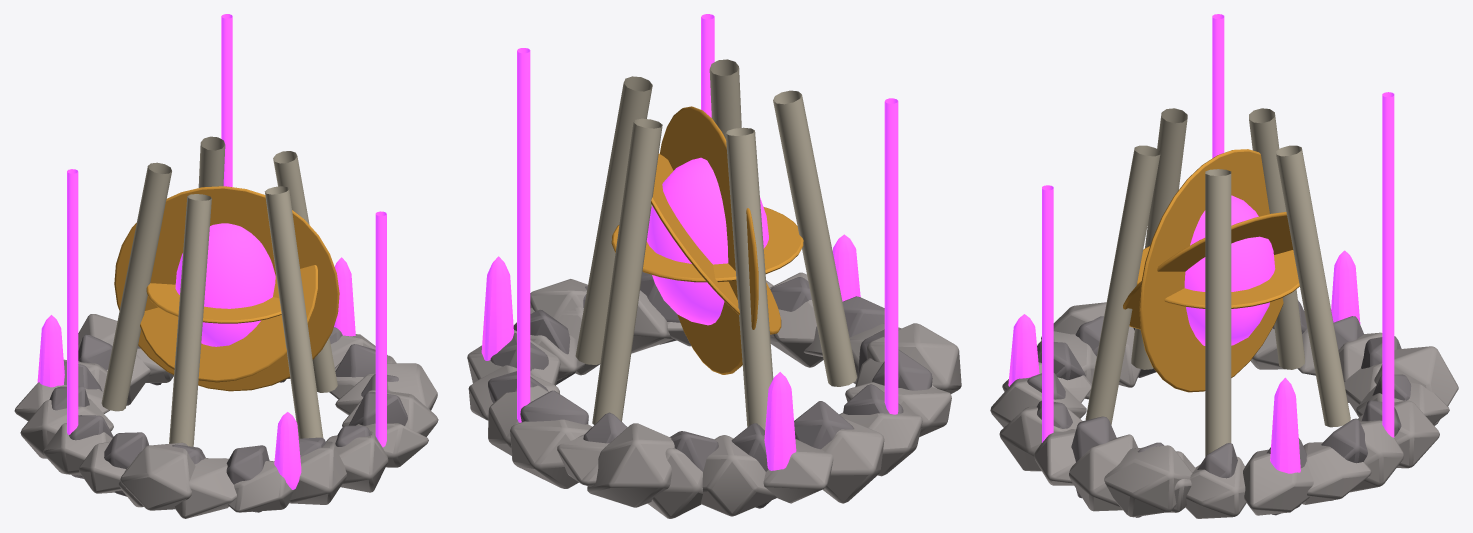
File: spell_hall.glb
3 renders of one model, left to right at view 1: azimuth 30°, elevation 25°; view 2: azimuth 150°, elevation 25°; view 3: azimuth 270°, elevation 25°, orthographic. The views are drawn at different scales.
Parts seen in each view (by area): view 1: RuneRing_2, Arch_1, Arch_2, Arch_3, SpellHeart, RuneRing_1, L5Foundation, L6Spire, L3Spire, FoundationStone_5, FoundationStone_7, Arch_0 (+28 smaller); view 2: Arch_2, Arch_4, SpellHeart, Arch_3, RuneRing_2, Arch_0, L9Spire, L8Foundation, L6Spire, FoundationStone_13, RuneRing_0, FoundationStone_16 (+34 smaller); view 3: RuneRing_2, Arch_4, Arch_0, Arch_1, SpellHeart, L9Spire, L2Foundation, Arch_3, Arch_2, FoundationStone_19, L3Spire, RuneRing_1 (+32 smaller).
Part boxes in pixels (box(x1,y1,x2,y2)): RuneRing_2: box(114, 186, 339, 391); Arch_1: box(264, 186, 323, 438); Arch_2: box(169, 194, 211, 446); Arch_3: box(101, 162, 171, 411); SpellHeart: box(175, 223, 275, 346); RuneRing_1: box(140, 265, 317, 382); L5Foundation: box(120, 442, 195, 510); L6Spire: box(67, 169, 78, 434); L3Spire: box(375, 211, 386, 447); FoundationStone_5: box(274, 441, 346, 504); FoundationStone_7: box(174, 458, 236, 518); Arch_0: box(273, 151, 337, 392); Arch_2: box(773, 90, 856, 386); Arch_4: box(592, 118, 662, 424); SpellHeart: box(646, 157, 768, 325); Arch_3: box(725, 127, 773, 430); RuneRing_2: box(660, 106, 758, 374); Arch_0: box(575, 76, 652, 364); L9Spire: box(517, 48, 530, 422); L8Foundation: box(587, 423, 674, 507); L6Spire: box(884, 98, 898, 414); FoundationStone_13: box(701, 435, 776, 516); RuneRing_0: box(611, 206, 803, 282); FoundationStone_16: box(510, 419, 592, 488); RuneRing_2: box(1139, 149, 1283, 392); Arch_4: box(1276, 145, 1350, 427); Arch_0: box(1205, 169, 1231, 456); Arch_1: box(1085, 145, 1160, 424); SpellHeart: box(1184, 195, 1275, 345); L9Spire: box(1382, 92, 1394, 437); L2Foundation: box(1104, 445, 1192, 517); Arch_3: box(1249, 108, 1304, 369); Arch_2: box(1131, 108, 1187, 369); FoundationStone_19: box(1243, 449, 1313, 515); L3Spire: box(1042, 185, 1053, 442); RuneRing_1: box(1123, 212, 1293, 329).
Bounding box in the file's own units: 3.97 × 3.8 × 4.1.
